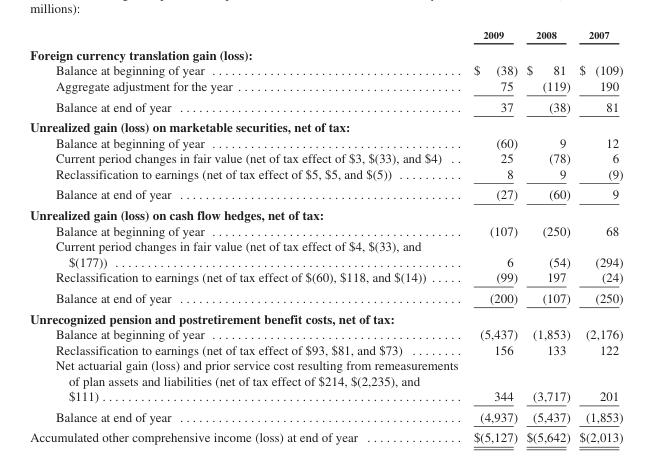table: (29, 28, 622, 444)
table column: (29, 28, 465, 444), (465, 28, 521, 444), (521, 28, 574, 444), (574, 28, 622, 444)
table column header: (29, 28, 622, 43)
table projected row header: (29, 43, 622, 62), (29, 116, 622, 134), (29, 204, 622, 222), (29, 307, 622, 325)
table row: (29, 356, 622, 405), (29, 238, 622, 269), (29, 95, 622, 116), (29, 183, 622, 204), (29, 405, 622, 426), (29, 287, 622, 307), (29, 43, 622, 62), (29, 77, 622, 95), (29, 116, 622, 134), (29, 165, 622, 183), (29, 204, 622, 222), (29, 269, 622, 287), (29, 307, 622, 325), (29, 426, 622, 444), (29, 134, 622, 150), (29, 222, 622, 238), (29, 325, 622, 341), (29, 28, 622, 43), (29, 62, 622, 77), (29, 150, 622, 165), (29, 341, 622, 356)
